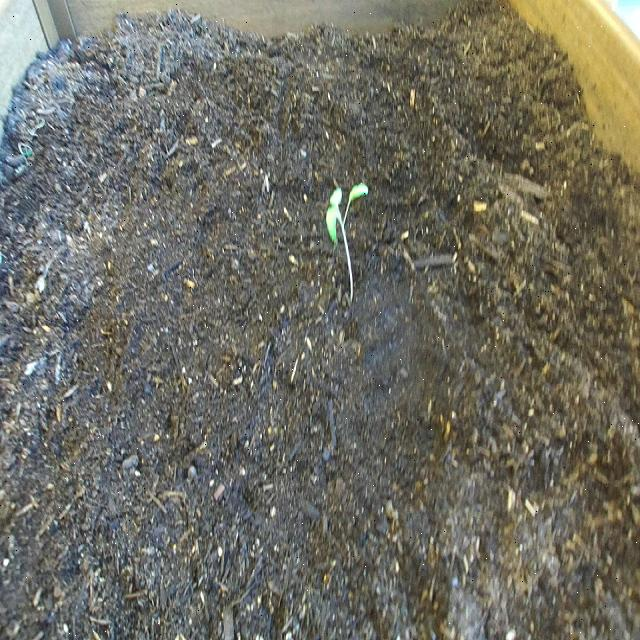Healthy: (324, 176, 372, 307)
